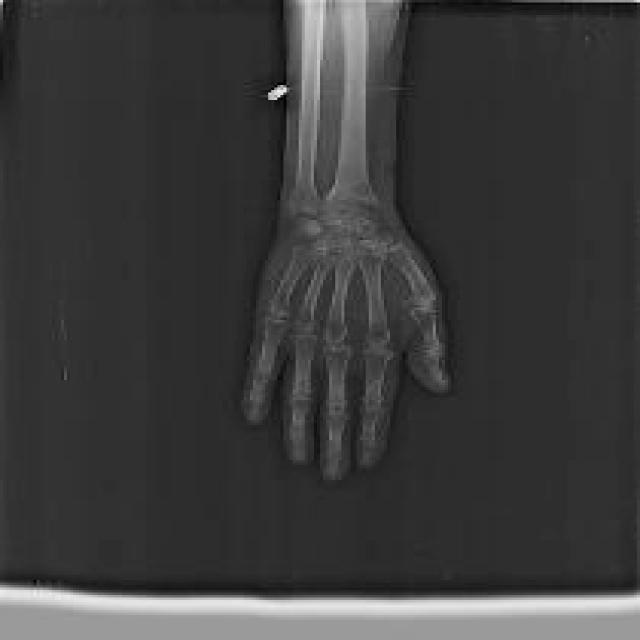normal: (238, 0, 448, 482)
